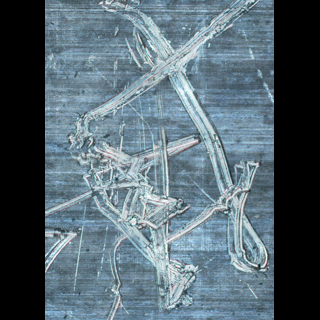d: (75, 0, 246, 149), (66, 115, 196, 243), (207, 150, 270, 281), (148, 239, 203, 315), (105, 231, 140, 319), (45, 216, 87, 280)
